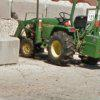Tractor: (15, 9, 100, 69)
